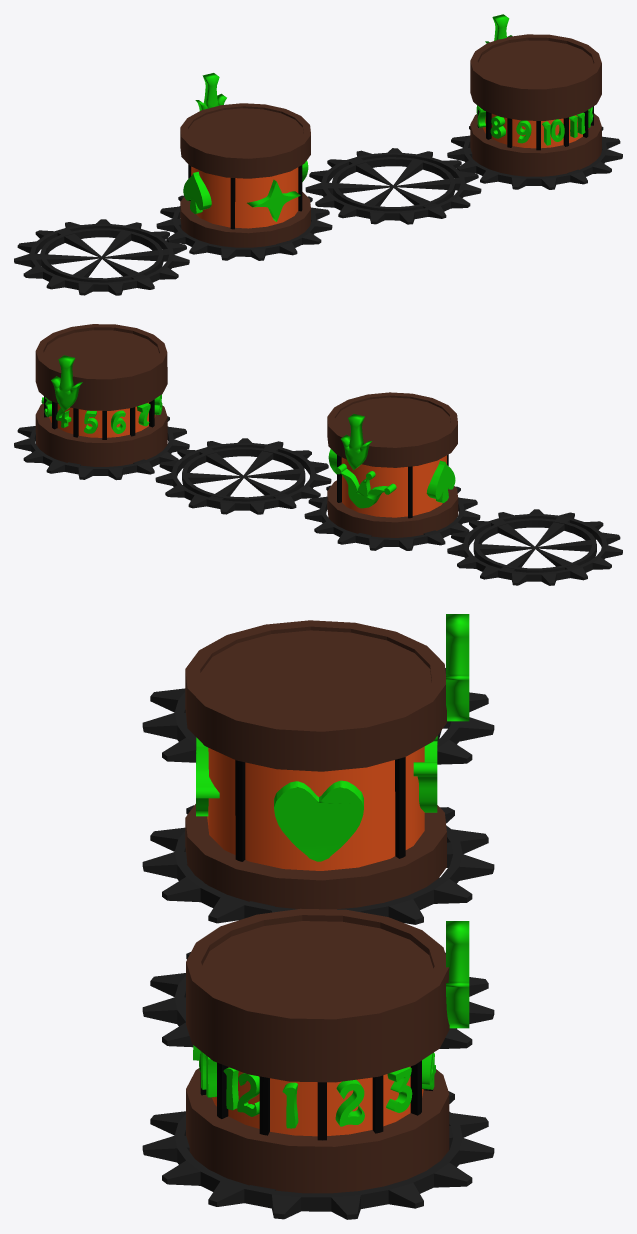
Rendered from clock_password_control.FBX.
3 views of the same model, one above another, from view 1: azimuth 30°, elevation 25°; view 2: azimuth 150°, elevation 25°; view 3: azimuth 270°, elevation 25° (orthographic). The views are drawn at different scales.
Parts seen in each view (by area): view 1: Object007, Cylinder001, Cylinder014, Cylinder017, Box019; view 2: Object007, Cylinder001, Cylinder014, Cylinder017, Box019, Box018; view 3: Cylinder001, Object007, Cylinder017, Cylinder014, Box019, Box018.
Part boxes in pixels (x1,y1,x2,y2): Object007: (156,103,332,260); Cylinder001: (447,34,622,189); Cylinder014: (305,148,481,224); Cylinder017: (14,219,189,295); Box019: (195,73,226,110); Object007: (304,392,480,550); Cylinder001: (14,324,189,480); Cylinder014: (155,438,331,514); Cylinder017: (447,509,622,585); Box019: (341,414,371,470); Box018: (51,355,82,411); Cylinder001: (142,908,494,1219); Object007: (142,620,494,924); Cylinder017: (142,668,494,764); Cylinder014: (142,952,494,1048); Box019: (446,614,469,721); Box018: (446,921,469,1028).
Size of the model in its own units: 21.07 by 4.29 by 5.48.
